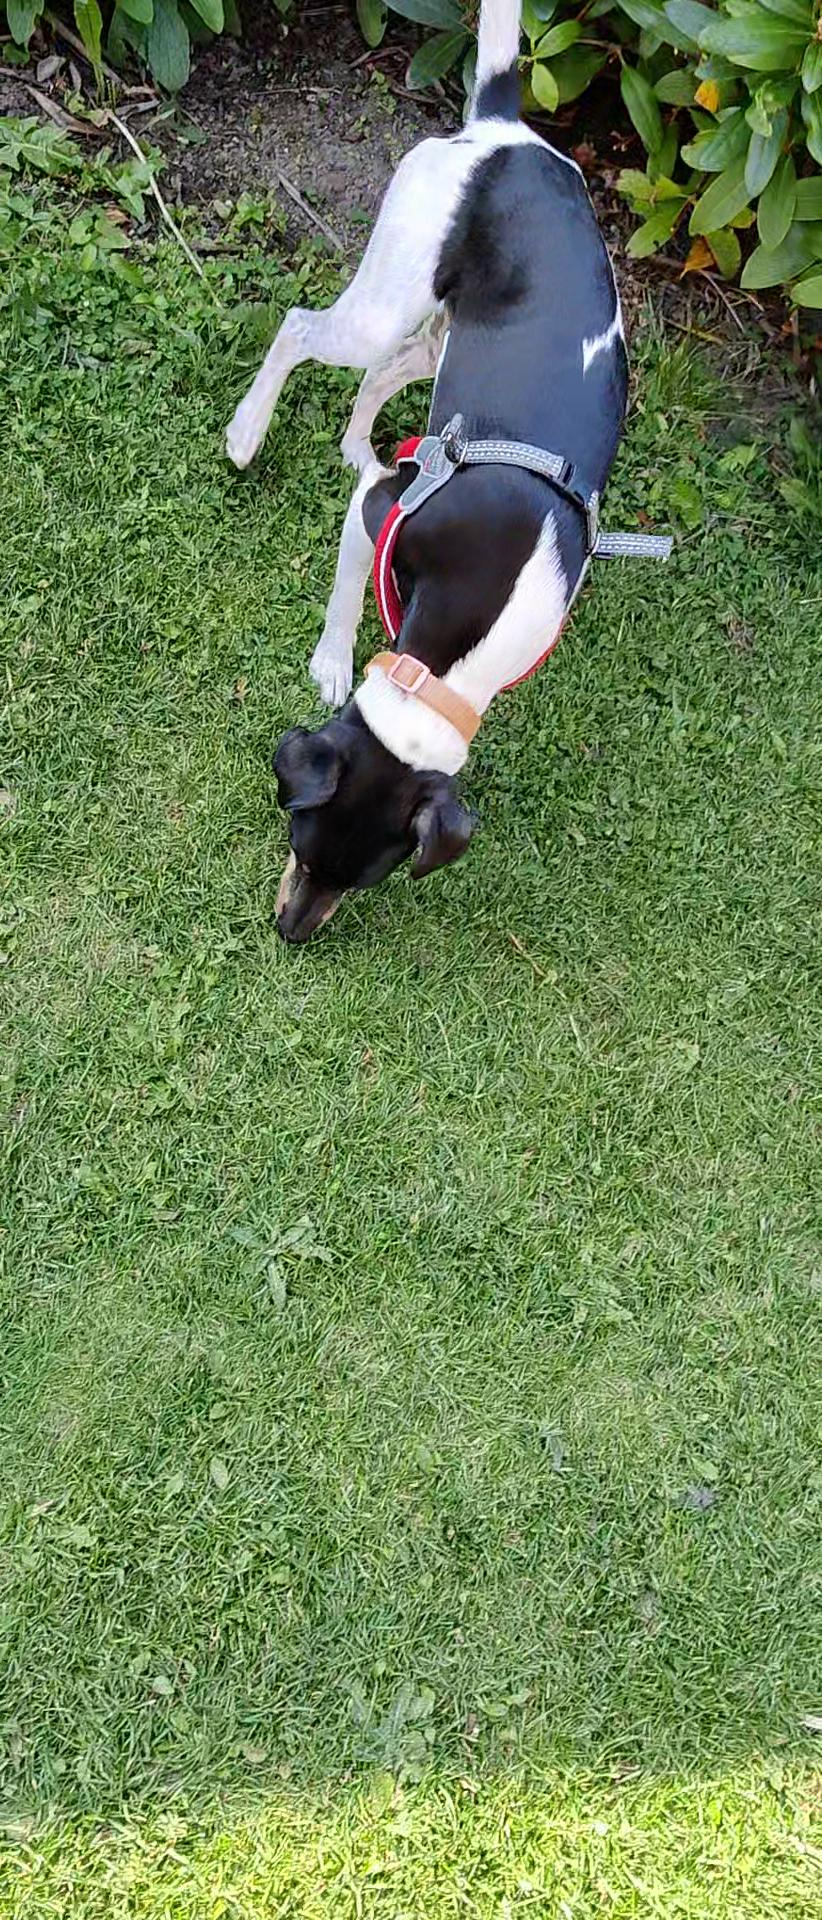Dog: (184, 0, 668, 980)
